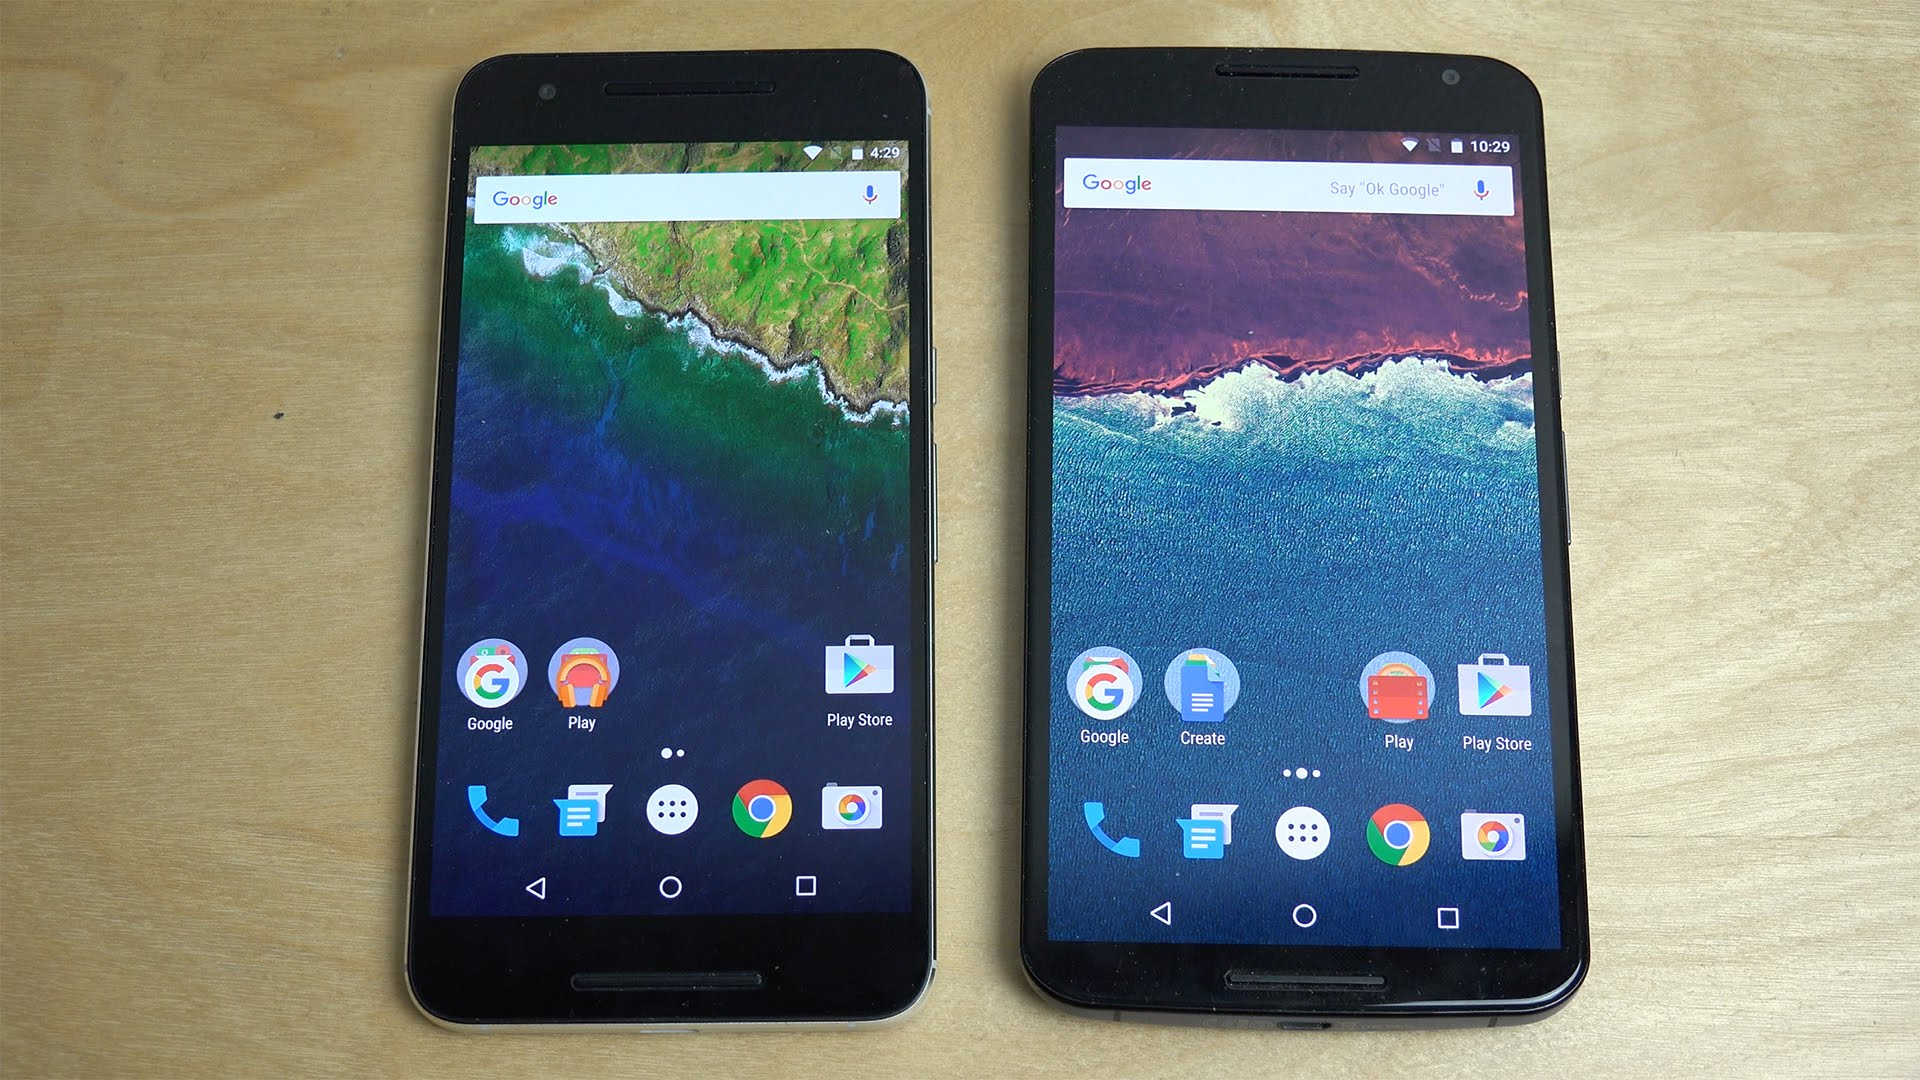smartphone: (1015, 44, 1592, 1033), (402, 46, 939, 1033)
